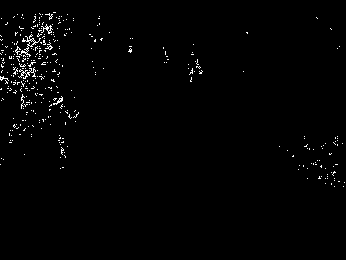person: (49, 96, 78, 163)
